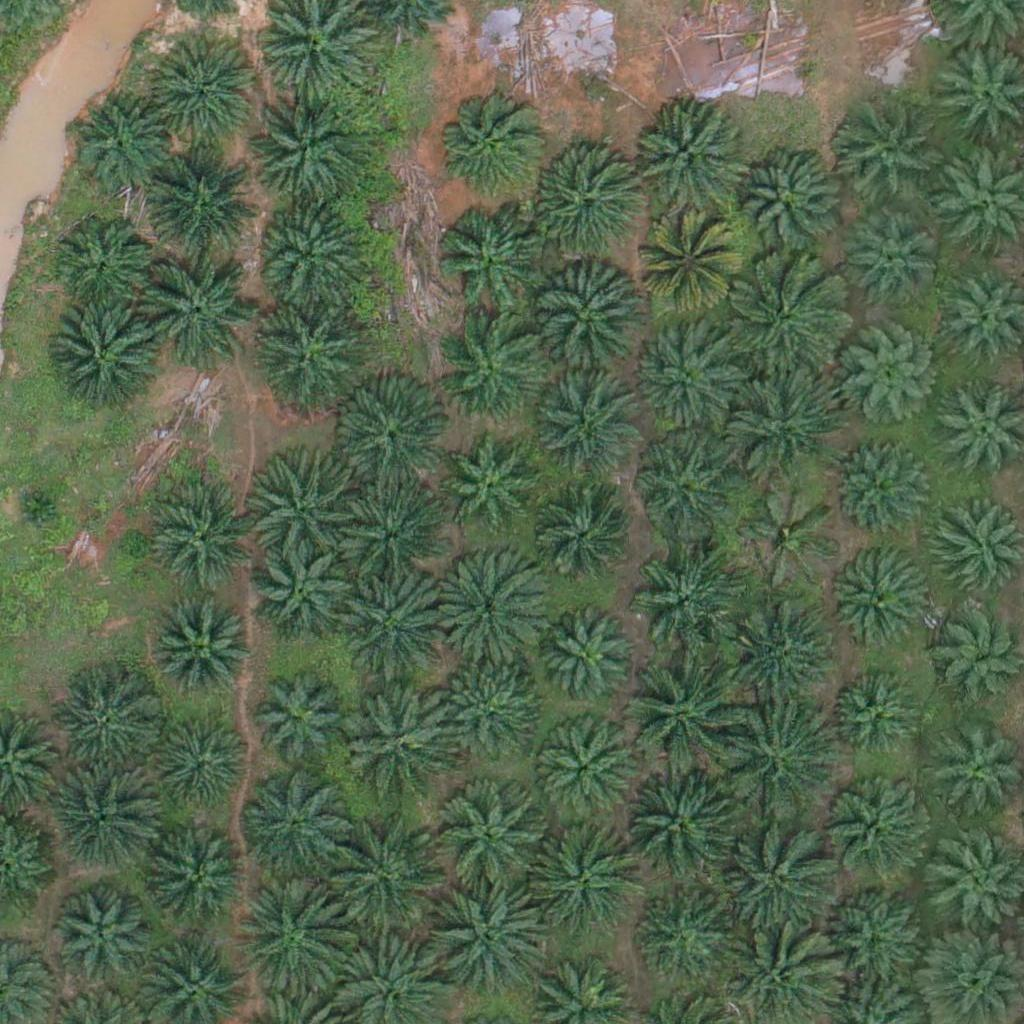Kelapa_Sawit: (624, 766, 737, 880), (431, 550, 544, 664), (340, 566, 453, 680), (231, 883, 344, 997), (257, 193, 370, 307), (248, 98, 361, 212), (146, 34, 259, 148), (718, 820, 831, 933), (721, 591, 834, 704), (725, 371, 838, 484), (729, 259, 842, 372), (623, 660, 736, 773), (532, 266, 645, 379), (526, 824, 639, 937), (434, 208, 547, 321), (436, 785, 549, 898), (345, 684, 458, 797), (45, 305, 158, 418), (46, 763, 159, 876), (728, 147, 841, 260), (721, 705, 833, 819), (437, 313, 549, 427), (238, 767, 350, 881), (435, 85, 547, 199), (145, 142, 257, 256), (629, 539, 741, 652), (438, 882, 550, 995), (338, 388, 450, 501), (327, 817, 439, 930), (249, 296, 361, 409), (249, 444, 361, 557), (137, 253, 249, 366), (828, 98, 940, 211), (631, 104, 743, 217), (521, 148, 633, 261), (832, 436, 932, 537), (829, 552, 929, 653), (828, 778, 928, 879), (630, 325, 730, 426), (632, 437, 732, 538), (636, 890, 736, 991), (538, 382, 638, 483), (533, 722, 633, 823), (439, 437, 539, 538), (250, 672, 350, 773), (251, 542, 351, 643), (52, 215, 152, 316), (52, 893, 152, 994), (71, 95, 171, 196), (835, 331, 935, 431), (829, 880, 929, 980), (741, 487, 841, 587), (636, 219, 736, 319), (530, 496, 630, 596), (441, 669, 541, 769), (341, 485, 441, 585), (152, 493, 252, 593), (153, 602, 253, 702), (153, 718, 253, 818), (149, 834, 249, 934), (55, 678, 155, 778), (543, 616, 631, 705), (831, 677, 919, 765), (935, 729, 1022, 817), (848, 221, 935, 309), (10, 480, 60, 531)
